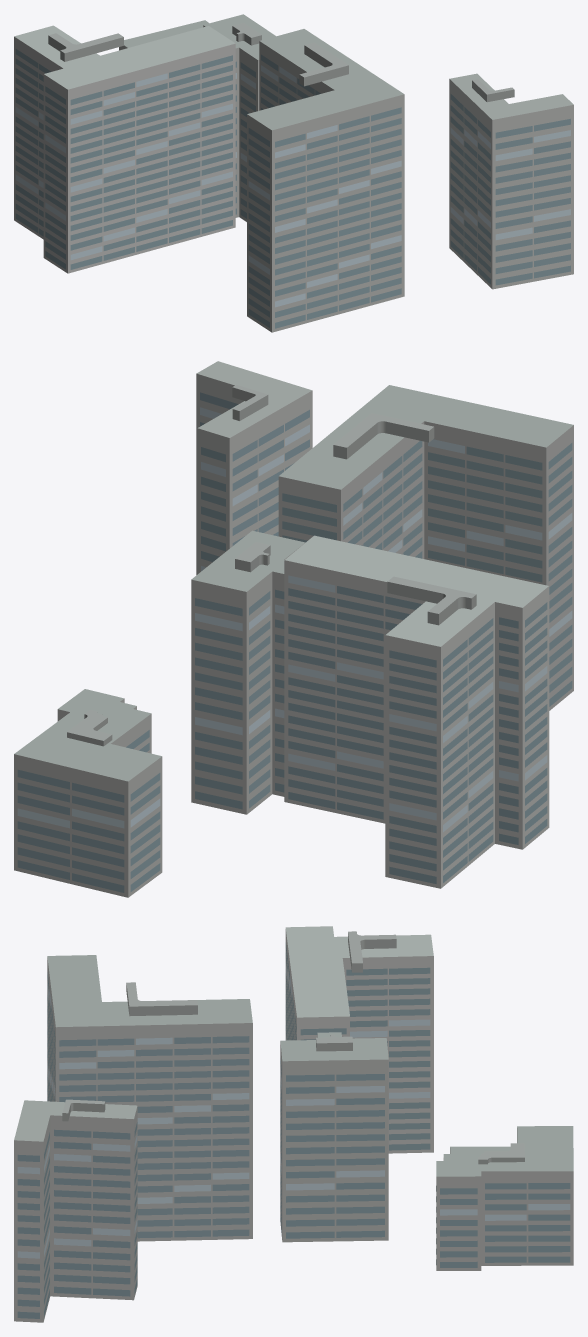
Rendered from apt-a13114103.glb.
3 views of the same model, one above another, from view 1: azimuth 30°, elevation 25°; view 2: azimuth 150°, elevation 25°; view 3: azimuth 270°, elevation 25° (orthographic). The views are drawn at different scales.
Parts seen in each view (by area): view 1: apt-a13114103; view 2: apt-a13114103; view 3: apt-a13114103.
Part boxes in pixels (left/top/right/bottom): apt-a13114103: left=14, top=14, right=573, bottom=332; apt-a13114103: left=14, top=361, right=573, bottom=897; apt-a13114103: left=14, top=926, right=573, bottom=1322.
Size of the model in its own units: 108 by 57 by 128.
